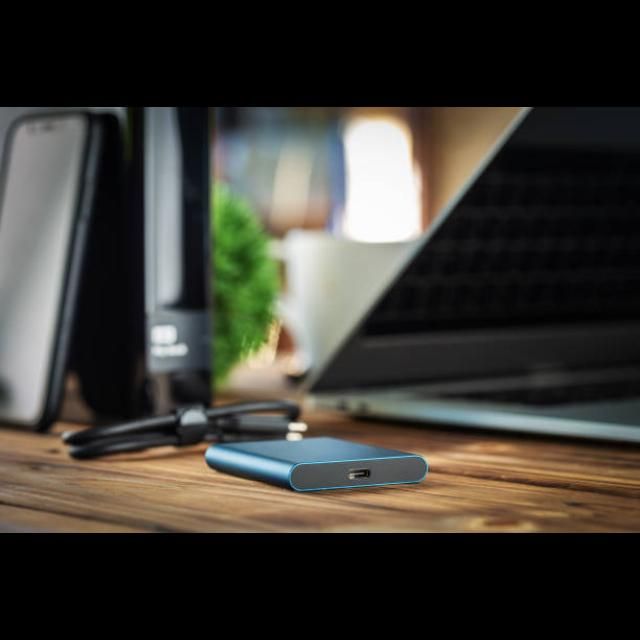HDD: (204, 439, 430, 495)
